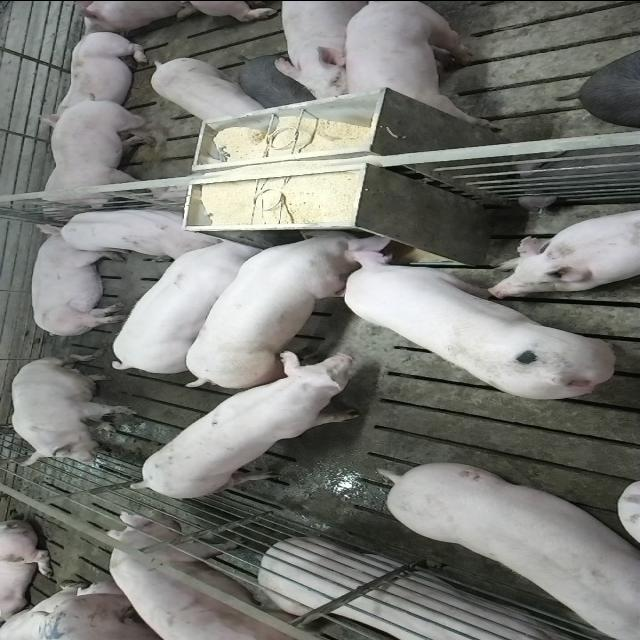Feeding: (336, 247, 620, 401), (178, 220, 392, 386)
Lateral_lying: (260, 539, 600, 640), (28, 221, 128, 339)
Sitting: (8, 354, 138, 466)
Standing: (380, 465, 640, 640), (131, 355, 383, 503), (97, 508, 320, 640), (104, 236, 266, 374), (345, 0, 497, 126), (30, 94, 174, 217), (272, 0, 401, 102), (150, 54, 264, 125)
Sternal_lying: (488, 207, 640, 295), (37, 28, 153, 118), (52, 204, 220, 260)
